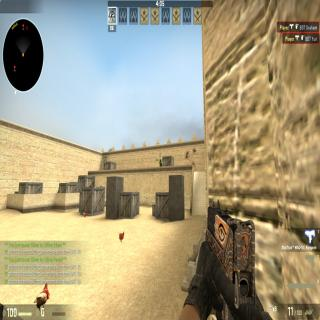CT-Body: (159, 158, 162, 166)
CT-Head: (159, 158, 161, 162)
